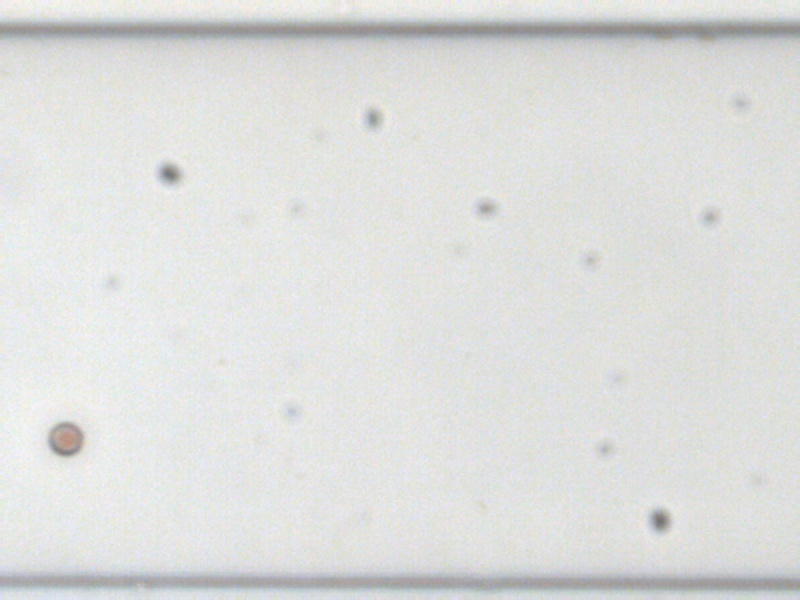Porphyridium: (47, 420, 82, 455)
